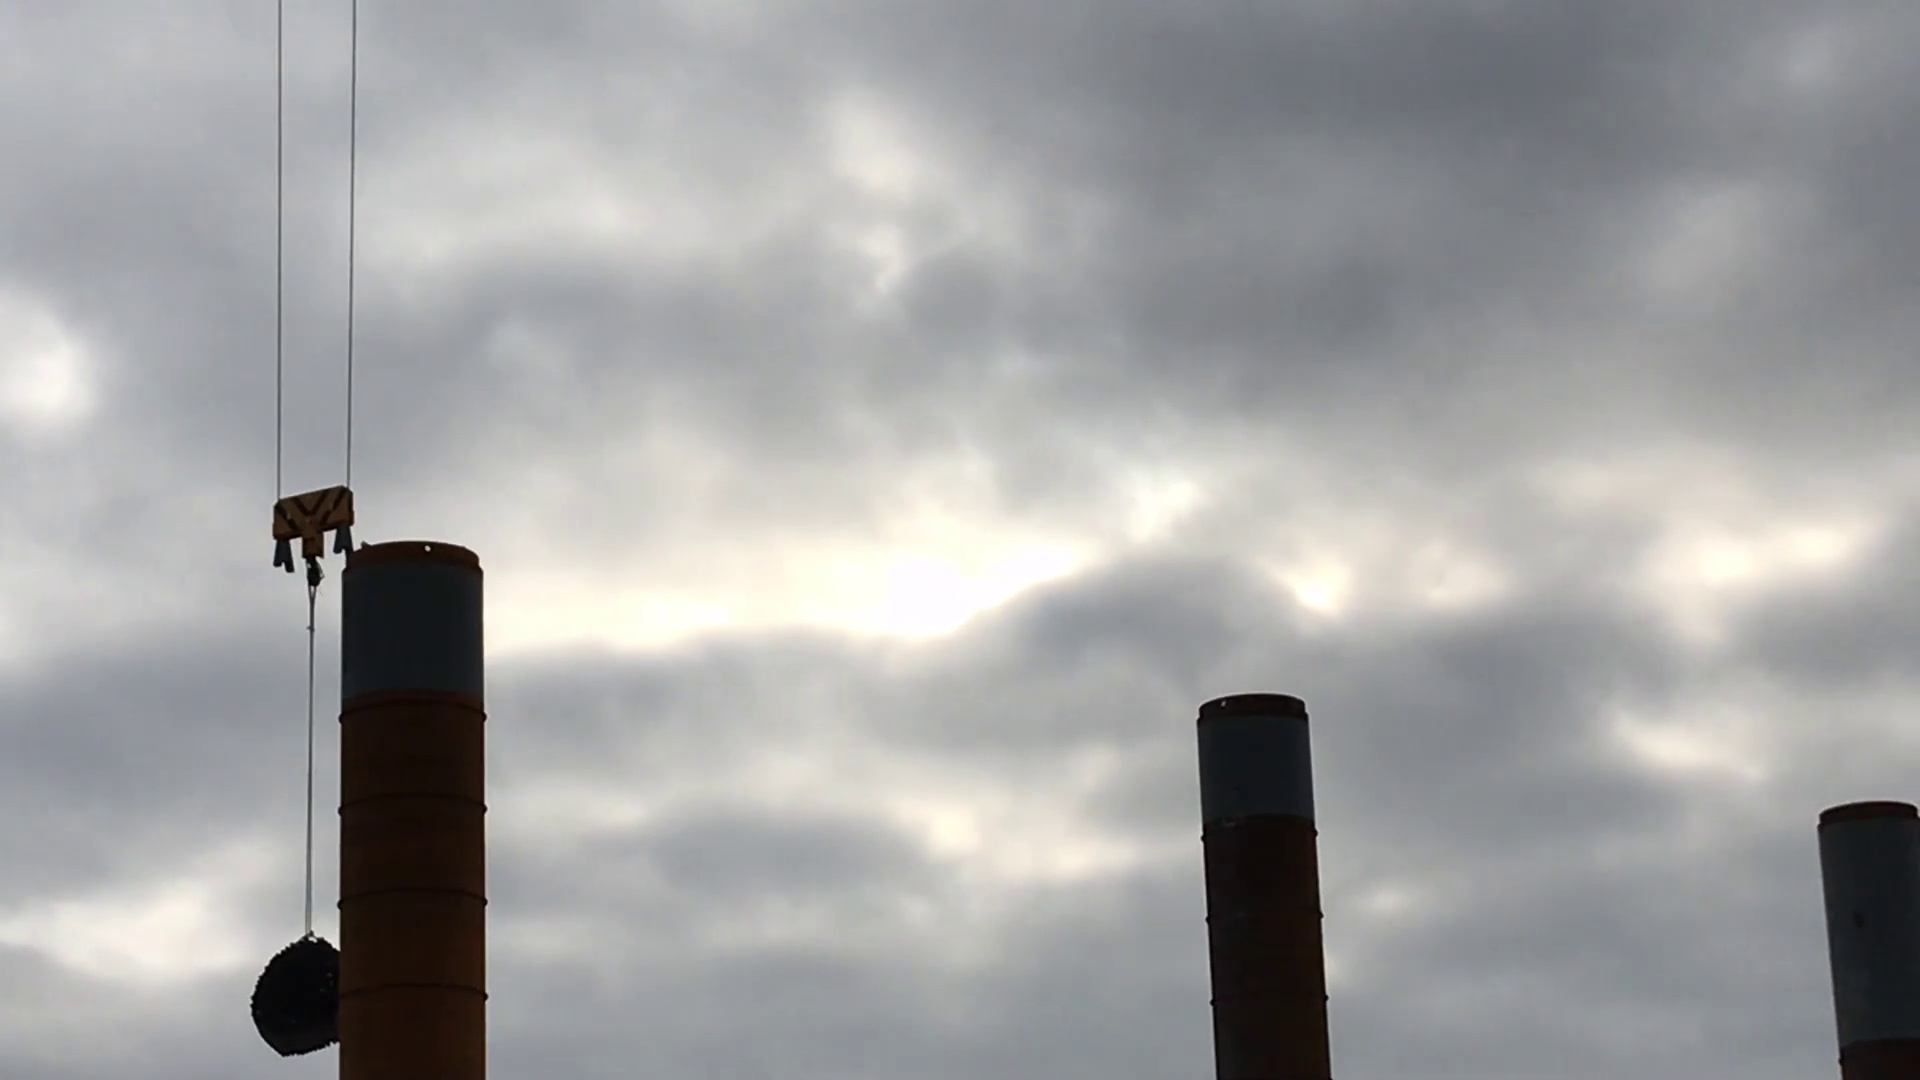hook: (261, 481, 364, 579)
